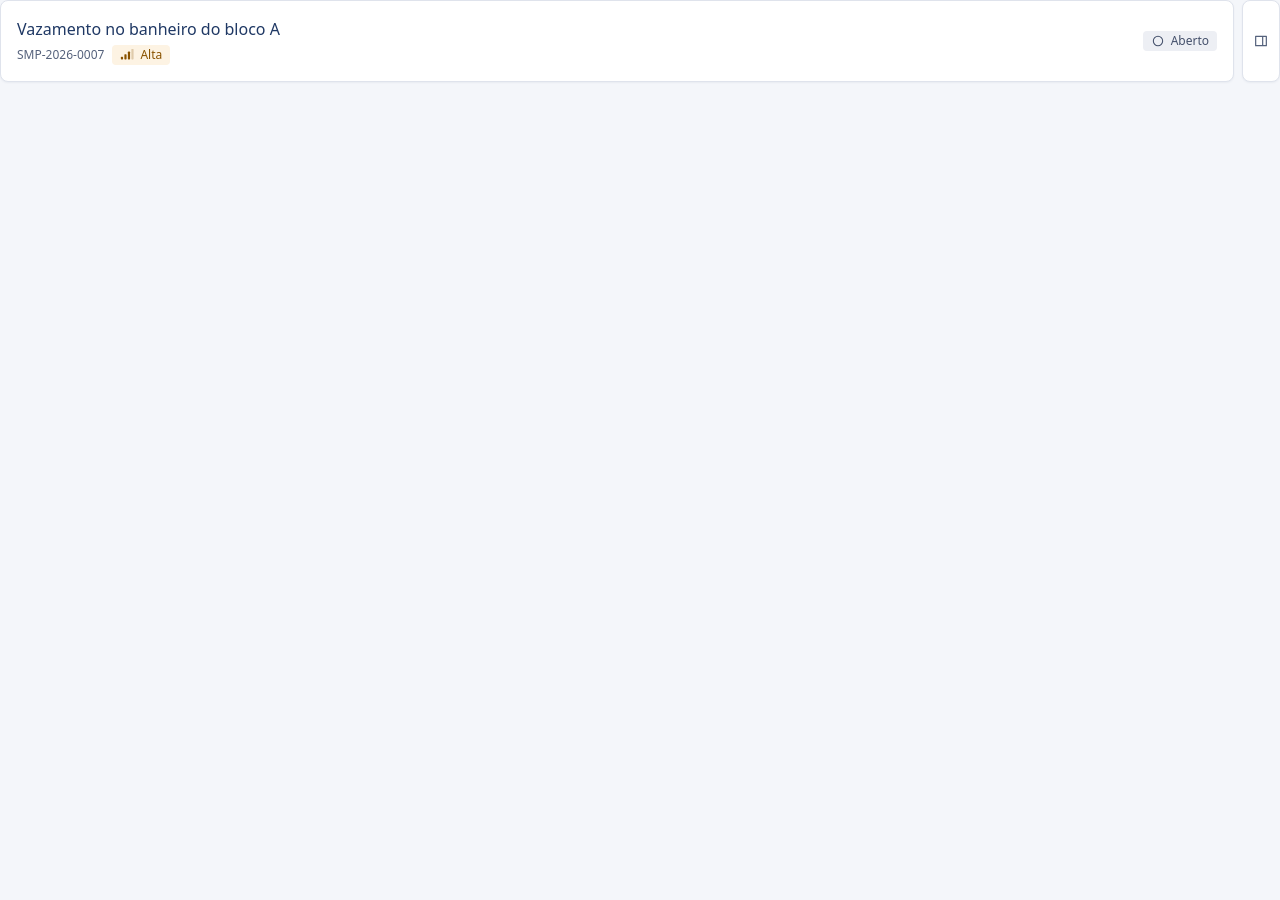
Painel lateral de resumo do chamado › abre ao clicar, busca o chamado e mostra descrição, local e categoria
Click the button named "ver resumo" at (1261, 41), box [1242,0,1279,82]
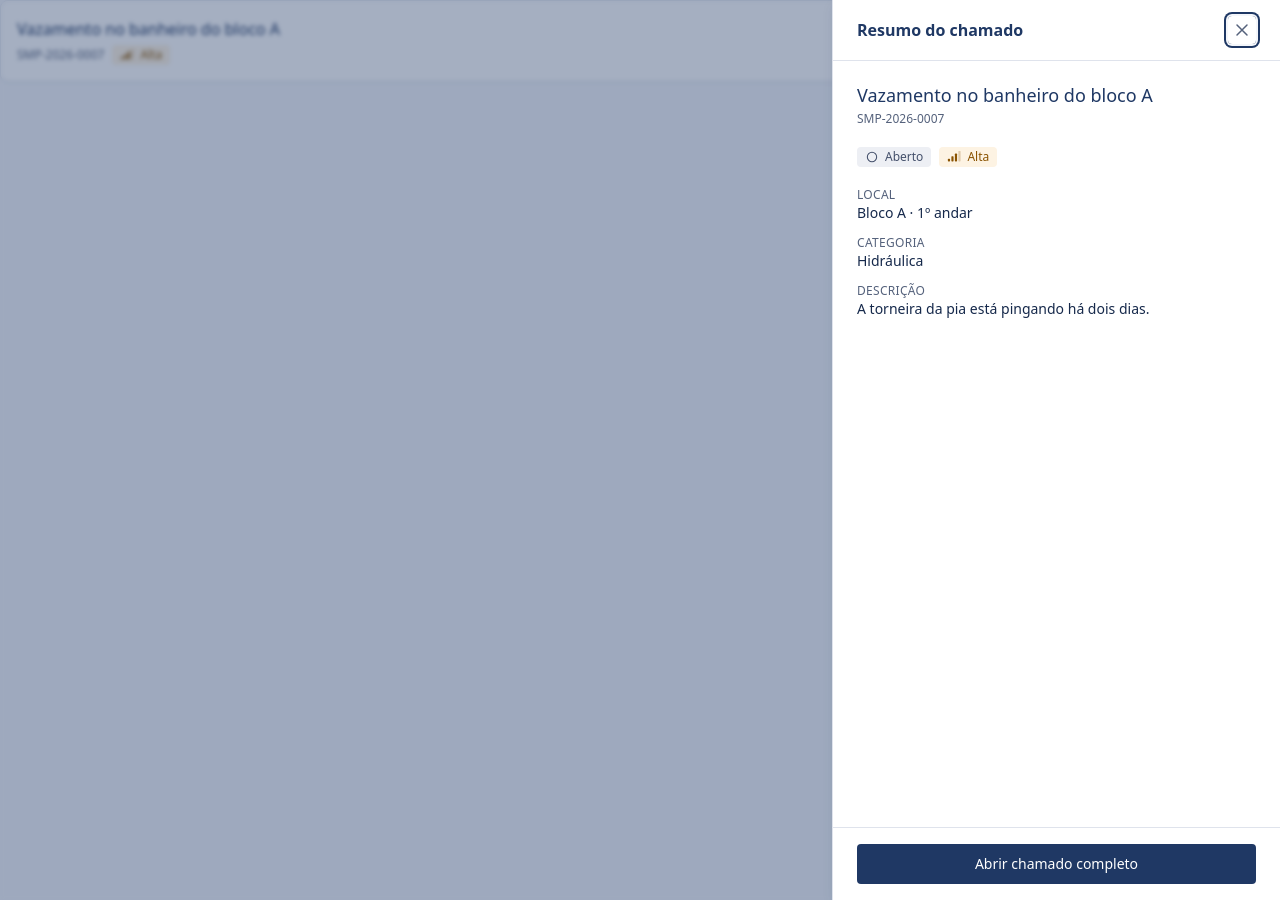
Expected: the dialog is shown, [832,0,1279,899]
Expected: the text "A torneira da pia está pingando há dois dias." is shown, [857,299,1150,318]
Expected: the text "Bloco A · 1º andar" is shown, [857,203,973,222]
